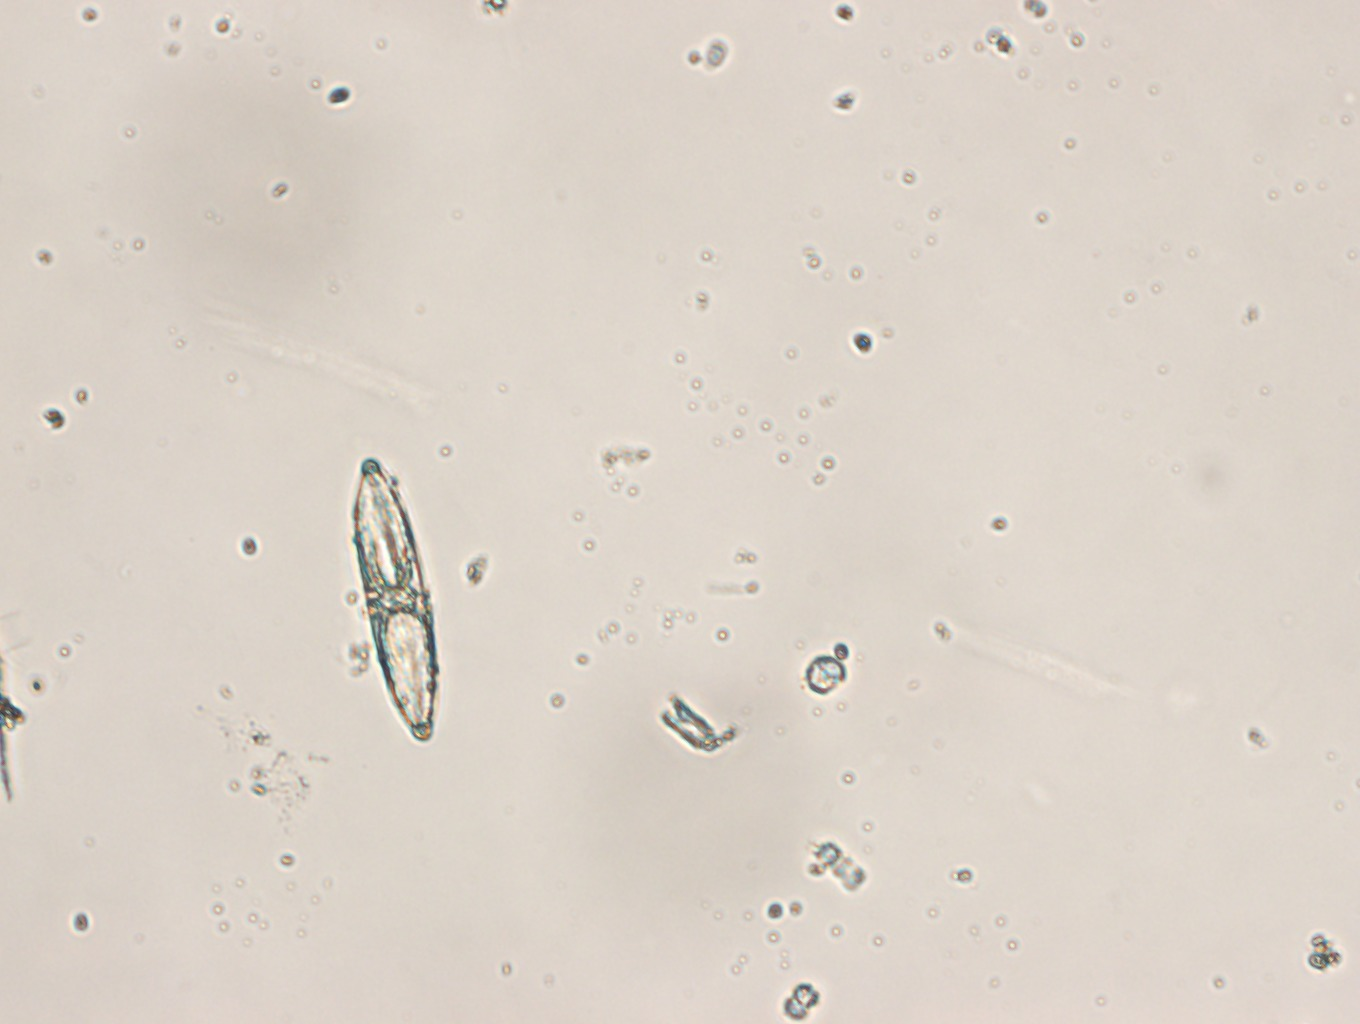navicula: (350, 461, 441, 740)
